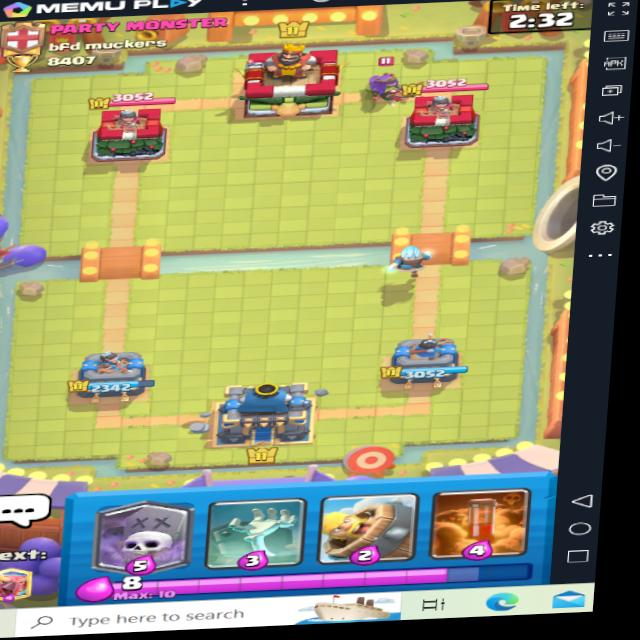archer-queen: (356, 48, 416, 117)
